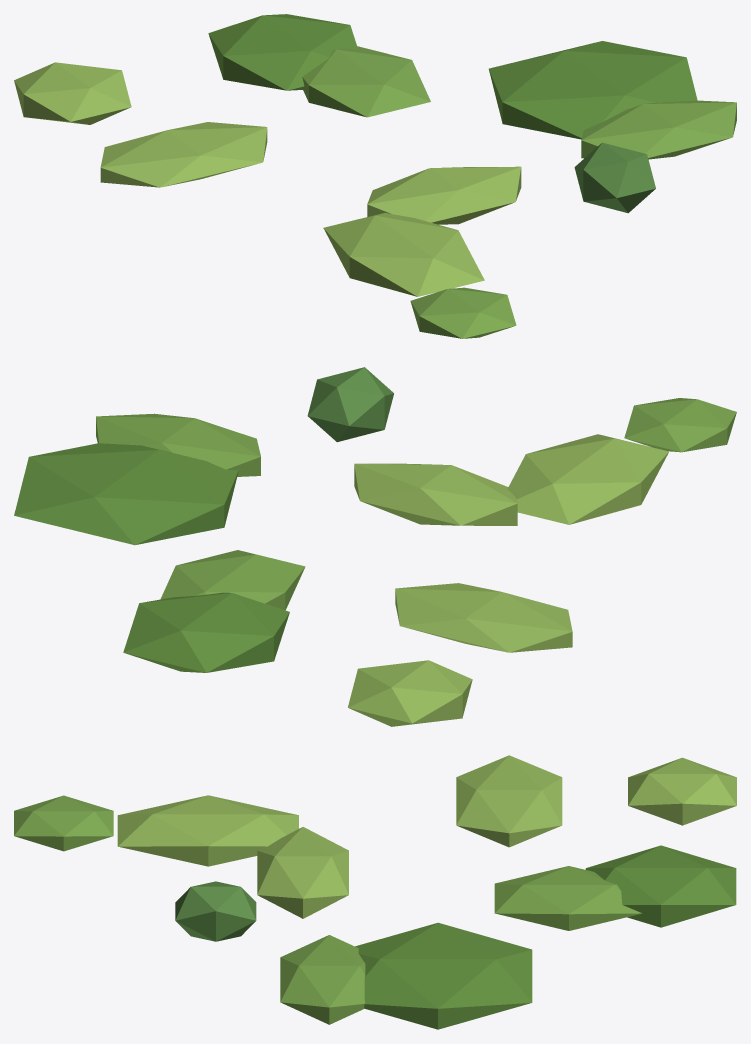
The model's file is Kir_cimen_sade_2_Hafif.fbx.
3 renders of one model, top to bottom at view 1: azimuth 30°, elevation 25°; view 2: azimuth 150°, elevation 25°; view 3: azimuth 270°, elevation 25°, orthographic. The views are drawn at different scales.
Visible parts, largest first — view 1: Kir_cimen_sade_2_Hafif; view 2: Kir_cimen_sade_2_Hafif; view 3: Kir_cimen_sade_2_Hafif.
Boxes of the visible parts, x1,y1,x2,y2 form: Kir_cimen_sade_2_Hafif: [14, 14, 736, 338]; Kir_cimen_sade_2_Hafif: [14, 367, 736, 726]; Kir_cimen_sade_2_Hafif: [14, 755, 736, 1029].
Size of the model in its own units: 15.13 by 1.74 by 17.99.
